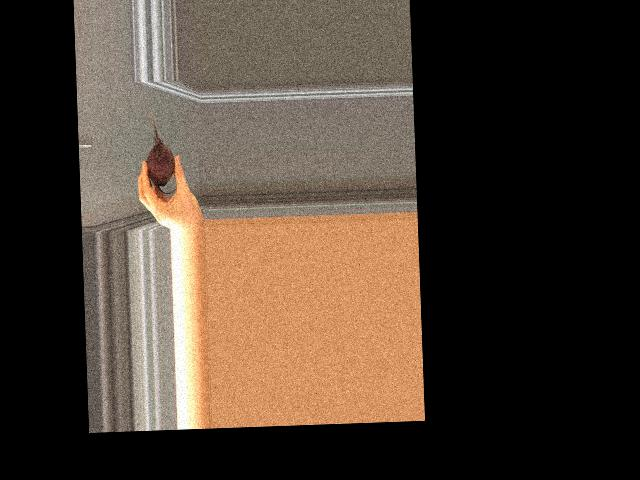beet: (145, 105, 176, 193)
